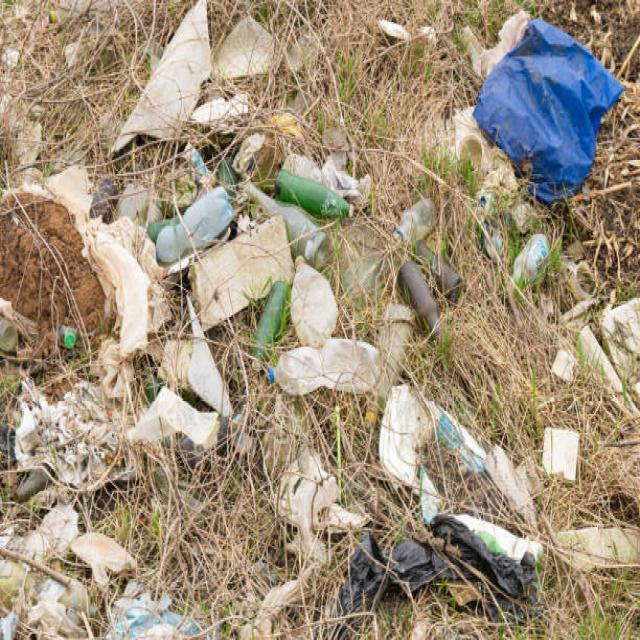glass: (265, 180, 343, 250)
plastic: (392, 209, 459, 323), (274, 340, 382, 396), (157, 196, 230, 262)
